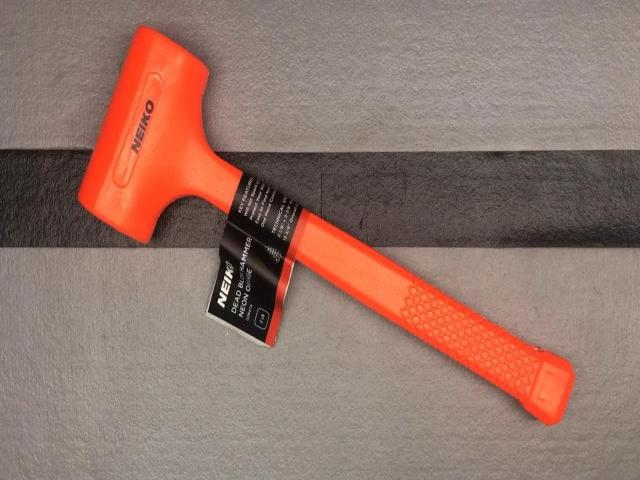hammer: (78, 26, 575, 426)
